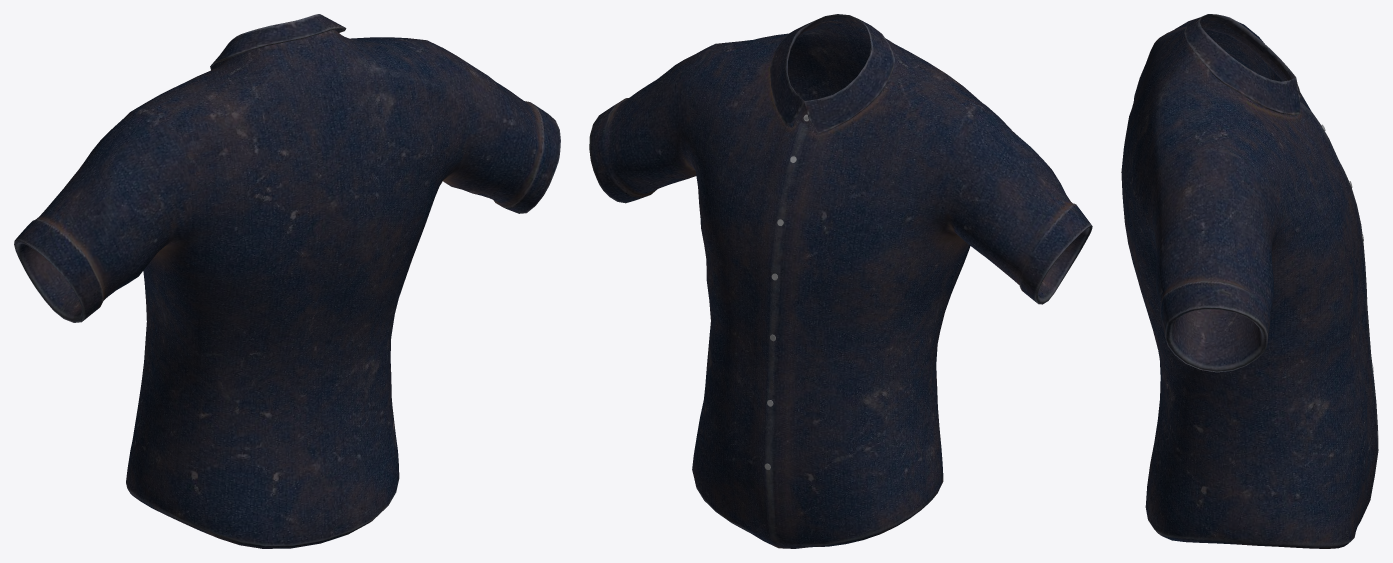
File: Hammer.glb
The picture shows the model from 3 angles, left to right: view 1: azimuth 30°, elevation 25°; view 2: azimuth 150°, elevation 25°; view 3: azimuth 270°, elevation 25°; orthographic projection. The views are drawn at different scales.
Parts seen in each view (by area): view 1: Shirt_Low; view 2: Shirt_Low; view 3: Shirt_Low.
Part boxes in pixels (x1=…): Shirt_Low: x1=14, y1=14, x2=560, y2=548; Shirt_Low: x1=589, y1=14, x2=1092, y2=548; Shirt_Low: x1=1121, y1=14, x2=1378, y2=548.
Size of the model in its own units: 2 by 1.91 by 0.8703.
1 material, 1 textured.
